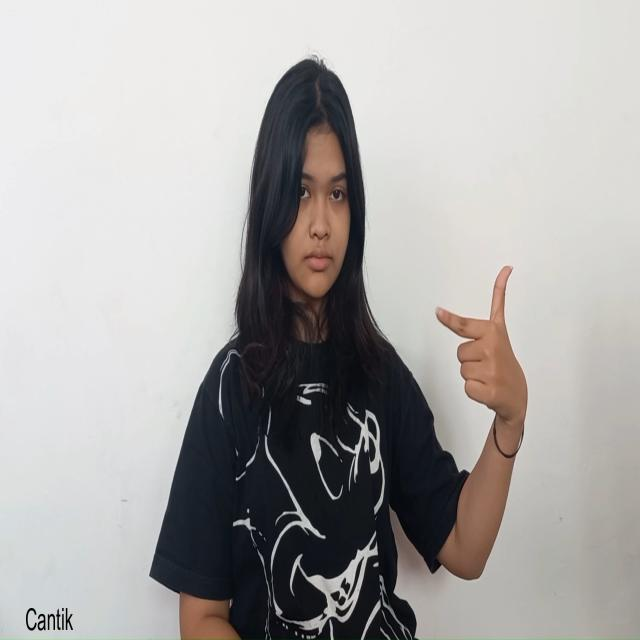Cantik -BISINDO-: (434, 262, 528, 459)
